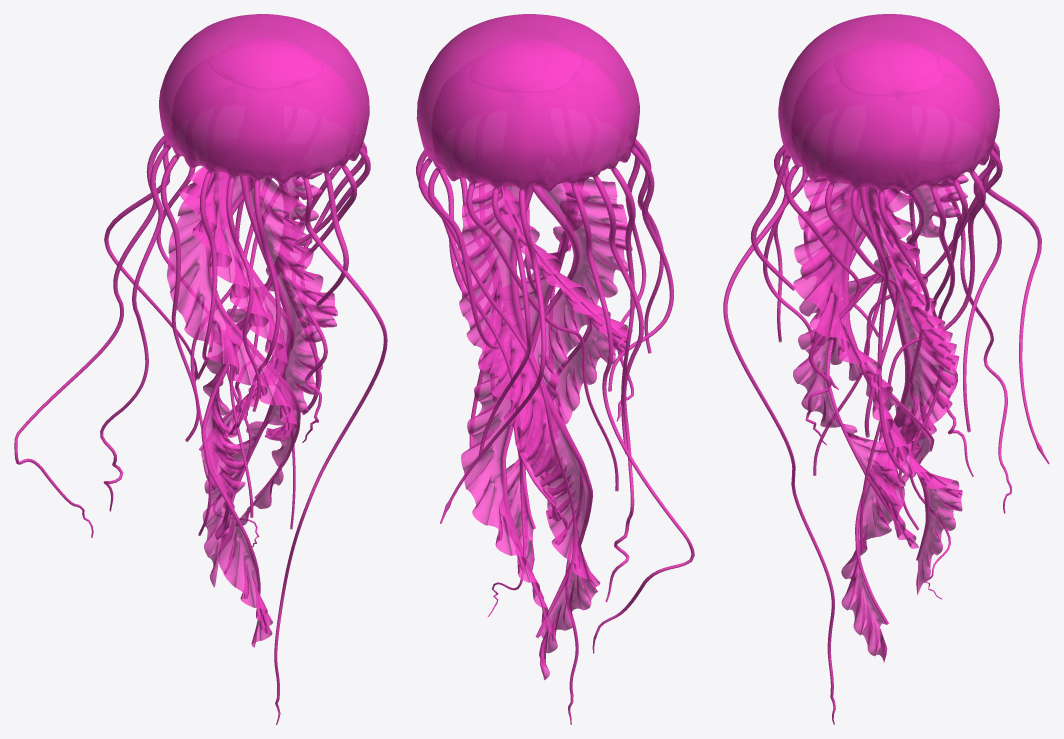
Rendered from SM_Jellyfish_00.FBX.
The picture shows the model from 3 angles, left to right: view 1: azimuth 30°, elevation 25°; view 2: azimuth 150°, elevation 25°; view 3: azimuth 270°, elevation 25°; orthographic projection. The views are drawn at different scales.
Parts seen in each view (by area): view 1: SM_Jellyfish_00; view 2: SM_Jellyfish_00; view 3: SM_Jellyfish_00.
Boxes of the visible parts, left/top/right/bottom form: SM_Jellyfish_00: left=14, top=14, right=387, bottom=724; SM_Jellyfish_00: left=416, top=14, right=694, bottom=724; SM_Jellyfish_00: left=723, top=14, right=1049, bottom=724.
Size of the model in its own units: 28 by 61.31 by 25.84.
